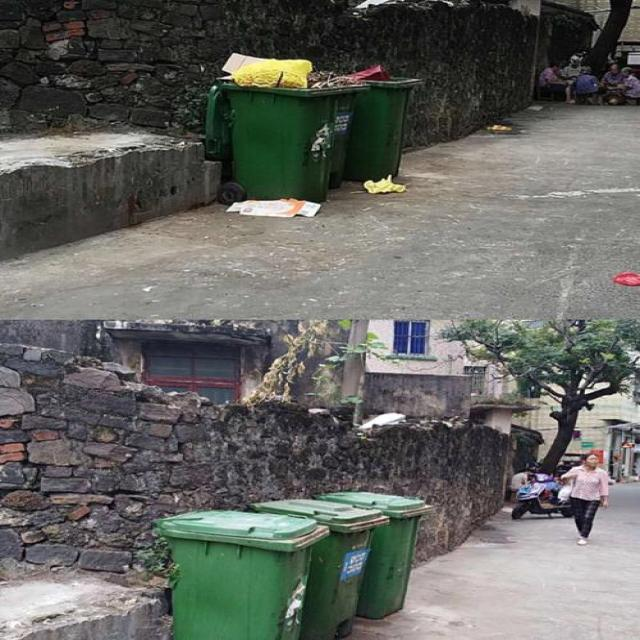garbage: (225, 197, 323, 220), (364, 175, 408, 194)
garbage_bin: (154, 507, 328, 639), (255, 499, 390, 638), (322, 490, 432, 617)
overflow: (202, 52, 365, 198), (351, 65, 421, 180)
